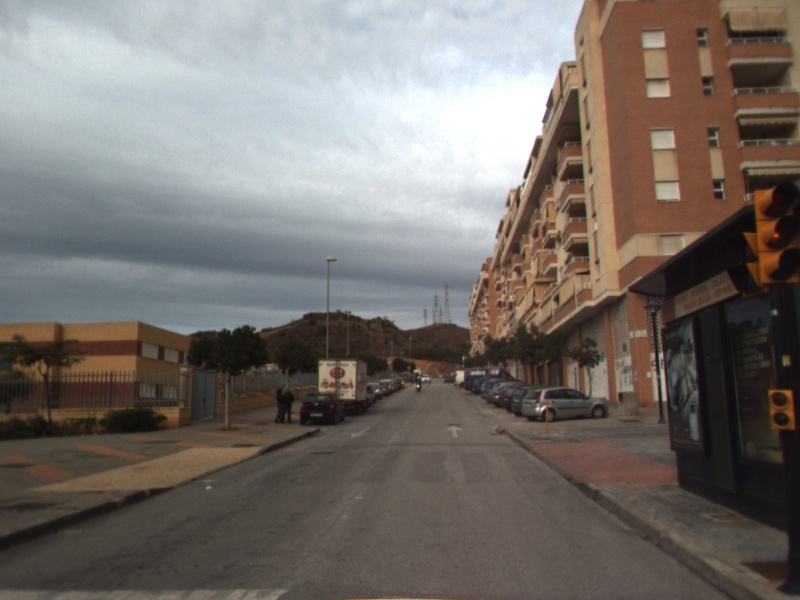STRAIGHT: (444, 423, 465, 439)
